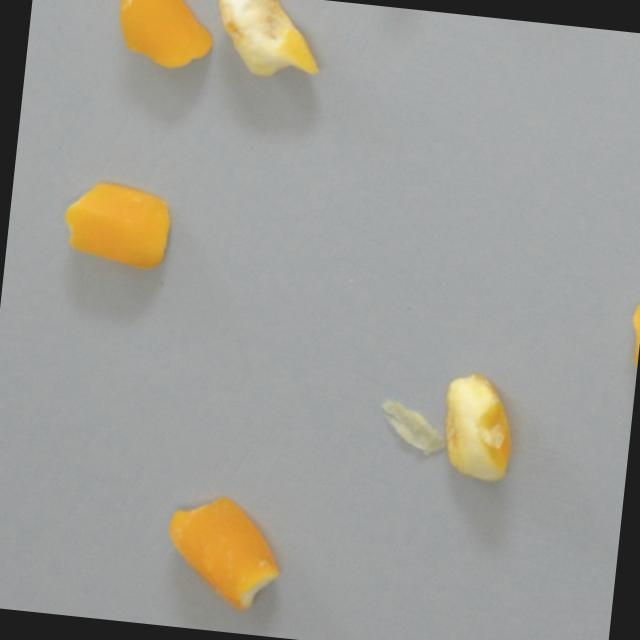estandar: (159, 490, 286, 613), (58, 178, 172, 270), (210, 0, 326, 84), (109, 0, 216, 71), (623, 300, 640, 391)
pelicula: (437, 371, 515, 483)
